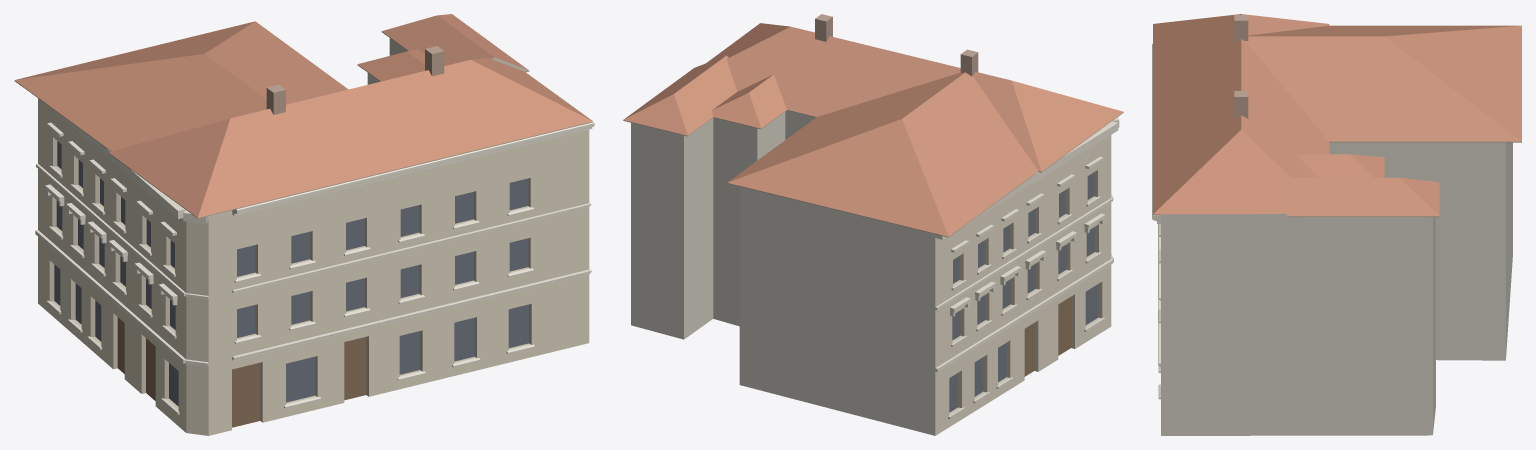
File: 267-claude-r7.glb
3 views of the same model, side by side, from view 1: azimuth 30°, elevation 25°; view 2: azimuth 150°, elevation 25°; view 3: azimuth 270°, elevation 25° (orthographic). The views are drawn at different scales.
Parts seen in each view (by area): view 1: CP_267_Masonry, CP_267_Roof, CP_267_WingRoof_Rear_Wing_W, CP_267_WingRoof_Rear_Wing_E, CP_267_Cornice_main_0, CP_267_Cornice_shop_0, CP_267_Cornice_string2_0, CP_267_WingRoof_Rear_Wing_M, CP_267_Cornice_kulova_main, CP_267_Cornice_kulova_shop, CP_267_Cornice_kulova_string2, CP_267_Roof_EaveClosure_0; view 2: CP_267_Masonry, CP_267_WingRoof_Rear_Wing_W, CP_267_Roof, CP_267_WingRoof_Rear_Wing_E, CP_267_WingRoof_Rear_Wing_M, CP_267_Cornice_kulova_main, CP_267_Cornice_kulova_shop, CP_267_Cornice_kulova_string2; view 3: CP_267_Masonry, CP_267_WingRoof_Rear_Wing_W, CP_267_Roof, CP_267_WingRoof_Rear_Wing_E, CP_267_WingRoof_Rear_Wing_M, CP_267_Chimney_1, CP_267_Chimney_0, CP_267_WingRoof_Rear_Wing_W_EaveClosure_2.
Boxes of the visible parts, bbox=[...] form: CP_267_Masonry: bbox=[38, 38, 589, 435]; CP_267_Roof: bbox=[108, 57, 592, 217]; CP_267_WingRoof_Rear_Wing_W: bbox=[14, 21, 348, 151]; CP_267_WingRoof_Rear_Wing_E: bbox=[382, 14, 528, 71]; CP_267_Cornice_main_0: bbox=[232, 121, 594, 215]; CP_267_Cornice_shop_0: bbox=[232, 269, 591, 360]; CP_267_Cornice_string2_0: bbox=[232, 203, 591, 293]; CP_267_WingRoof_Rear_Wing_M: bbox=[357, 49, 424, 81]; CP_267_Cornice_kulova_main: bbox=[49, 106, 185, 218]; CP_267_Cornice_kulova_shop: bbox=[35, 230, 185, 363]; CP_267_Cornice_kulova_string2: bbox=[36, 163, 185, 296]; CP_267_Roof_EaveClosure_0: bbox=[192, 124, 582, 218]; CP_267_Masonry: bbox=[631, 110, 1111, 435]; CP_267_WingRoof_Rear_Wing_W: bbox=[727, 72, 1037, 236]; CP_267_Roof: bbox=[706, 23, 1123, 171]; CP_267_WingRoof_Rear_Wing_E: bbox=[623, 55, 736, 135]; CP_267_WingRoof_Rear_Wing_M: bbox=[711, 74, 786, 128]; CP_267_Cornice_kulova_main: bbox=[935, 121, 1118, 239]; CP_267_Cornice_kulova_shop: bbox=[935, 259, 1113, 372]; CP_267_Cornice_kulova_string2: bbox=[935, 198, 1112, 310]; CP_267_Masonry: bbox=[1161, 142, 1512, 435]; CP_267_WingRoof_Rear_Wing_W: bbox=[1245, 25, 1521, 141]; CP_267_Roof: bbox=[1153, 14, 1329, 214]; CP_267_WingRoof_Rear_Wing_E: bbox=[1287, 177, 1439, 216]; CP_267_WingRoof_Rear_Wing_M: bbox=[1296, 154, 1384, 177]; CP_267_Chimney_1: bbox=[1234, 91, 1248, 118]; CP_267_Chimney_0: bbox=[1234, 15, 1248, 42]; CP_267_WingRoof_Rear_Wing_W_EaveClosure_2: bbox=[1329, 141, 1521, 142].
Bounding box in the file's own units: 23.09 × 15.8 × 18.45.
